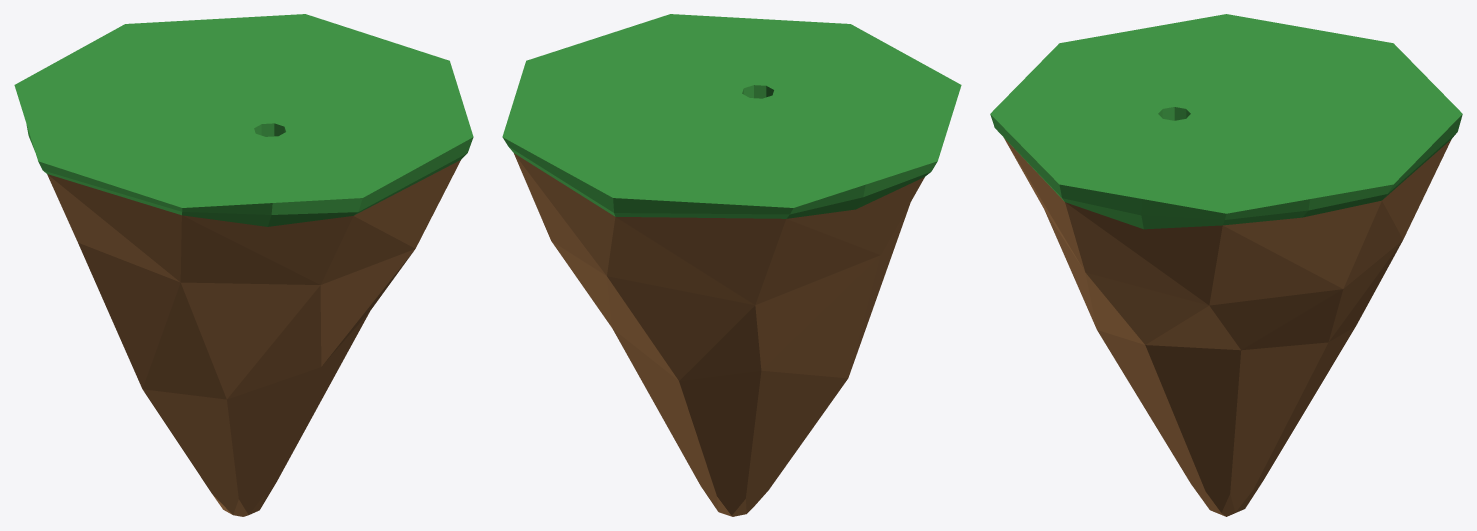
Rendered from Floating_island_2.glb.
3 views of the same model, side by side, from view 1: azimuth 30°, elevation 25°; view 2: azimuth 150°, elevation 25°; view 3: azimuth 270°, elevation 25° (orthographic).
Parts seen in each view (by area): view 1: IslandSmall; view 2: IslandSmall; view 3: IslandSmall.
Boxes of the visible parts, box(x1,y1,x2,y2) form: IslandSmall: box(14, 14, 473, 516); IslandSmall: box(502, 14, 961, 516); IslandSmall: box(990, 14, 1462, 516).
Size of the model in its own units: 2 by 1.88 by 2.
